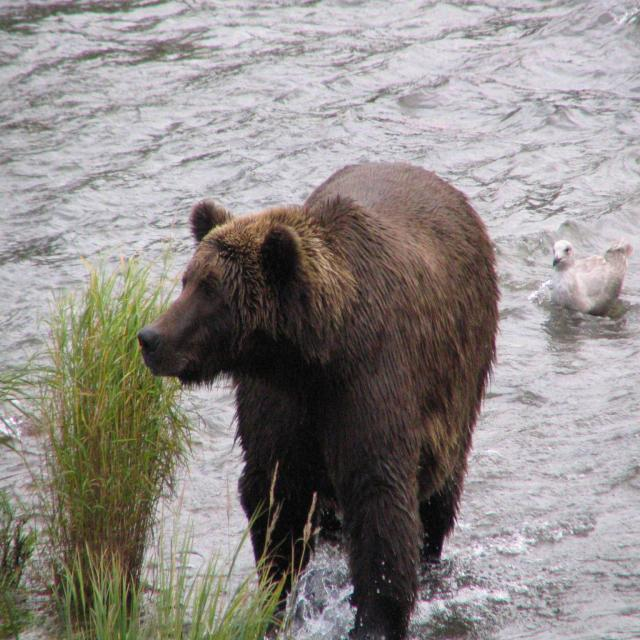bear face: (137, 166, 497, 640)
